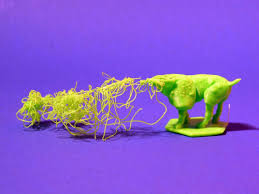fail: (14, 72, 169, 144)
